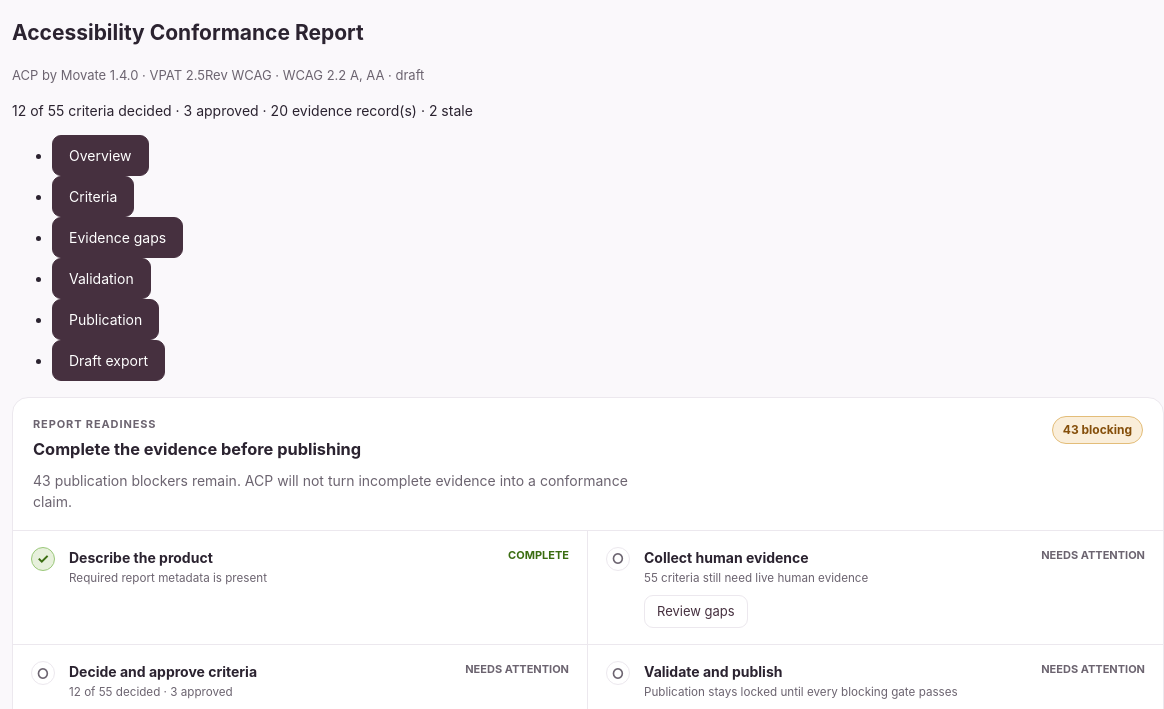
Test: accessibility › gives the criteria table header cells and a caption (1.3.1)
The image size is (1164, 709).
Click the button "Criteria" at (93, 196), box [52,176,134,217]
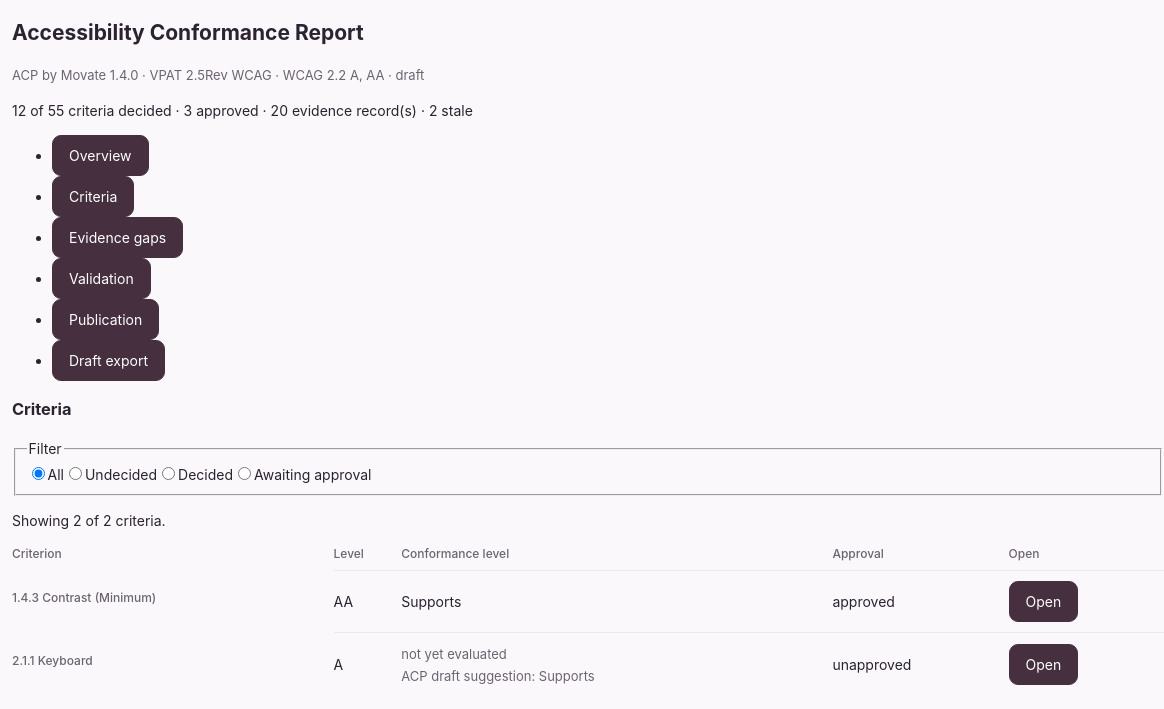
Expected: the column heading "Criterion" is shown, [12,545,334,571]
